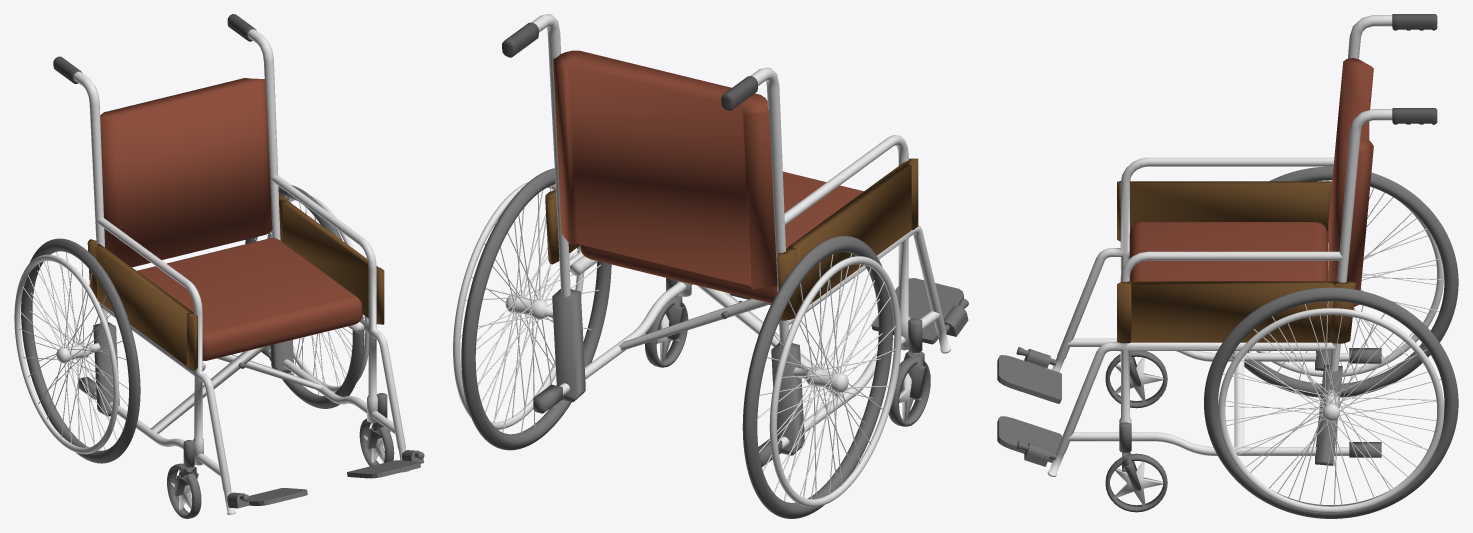
Rendered from Wheelchair.fbx.
3 renders of one model, left to right at view 1: azimuth 30°, elevation 25°; view 2: azimuth 150°, elevation 25°; view 3: azimuth 270°, elevation 25°, orthographic. The views are drawn at different scales.
Parts seen in each view (by area): view 1: Plane.002, Cube.005, Plane, Circle.001, Cylinder, Circle.004, Cylinder.002, Cylinder.006, Cylinder.018, Cube.003, Cube.001, Cube.002 (+7 smaller); view 2: Plane.002, Circle.001, Plane, Circle.004, Cylinder.006, Cube.003, Cylinder.018, Cube.005, Cylinder, Cylinder.002, Cylinder.001, Cube.002 (+8 smaller); view 3: Plane, Circle.001, Cylinder, Cube.005, Circle.004, Plane.002, Cube.001, Cylinder.006, Cylinder.018, Cylinder.001, Cylinder.002, Circle (+6 smaller).
Boxes of the visible parts, x1=… form: Plane.002: x1=100, y1=77, x2=272, y2=267; Cube.005: x1=137, y1=238, x2=362, y2=360; Plane: x1=87, y1=195, x2=384, y2=370; Circle.001: x1=21, y1=185, x2=364, y2=463; Cylinder: x1=97, y1=175, x2=409, y2=514; Circle.004: x1=14, y1=195, x2=368, y2=454; Cylinder.002: x1=73, y1=29, x2=280, y2=326; Cylinder.006: x1=29, y1=197, x2=352, y2=449; Cylinder.018: x1=19, y1=202, x2=364, y2=447; Cube.003: x1=93, y1=322, x2=293, y2=416; Cube.001: x1=227, y1=450, x2=423, y2=508; Cube.002: x1=150, y1=346, x2=322, y2=433; Plane.002: x1=553, y1=50, x2=777, y2=289; Circle.001: x1=461, y1=168, x2=893, y2=518; Plane: x1=545, y1=158, x2=918, y2=320; Circle.004: x1=453, y1=182, x2=901, y2=507; Cylinder.006: x1=476, y1=185, x2=882, y2=501; Cube.003: x1=552, y1=289, x2=804, y2=455; Cylinder.018: x1=460, y1=190, x2=895, y2=499; Cube.005: x1=580, y1=171, x2=863, y2=303; Cylinder: x1=569, y1=135, x2=950, y2=353; Cylinder.002: x1=531, y1=14, x2=789, y2=349; Cylinder.001: x1=559, y1=282, x2=940, y2=448; Cube.002: x1=618, y1=285, x2=846, y2=396; Plane: x1=1117, y1=181, x2=1355, y2=343; Circle.001: x1=1204, y1=166, x2=1458, y2=518; Cylinder: x1=1047, y1=157, x2=1342, y2=476; Cube.005: x1=1129, y1=222, x2=1327, y2=281; Circle.004: x1=1218, y1=199, x2=1444, y2=513; Plane.002: x1=1328, y1=58, x2=1373, y2=306; Cube.001: x1=997, y1=349, x2=1061, y2=466; Cylinder.006: x1=1223, y1=180, x2=1444, y2=505; Cylinder.018: x1=1226, y1=181, x2=1436, y2=506; Cylinder.001: x1=1068, y1=338, x2=1349, y2=455; Cylinder.002: x1=1330, y1=15, x2=1392, y2=371; Circle: x1=1105, y1=351, x2=1167, y2=512.
Size of the model in its own units: 72.89 by 92.8 by 97.58.
